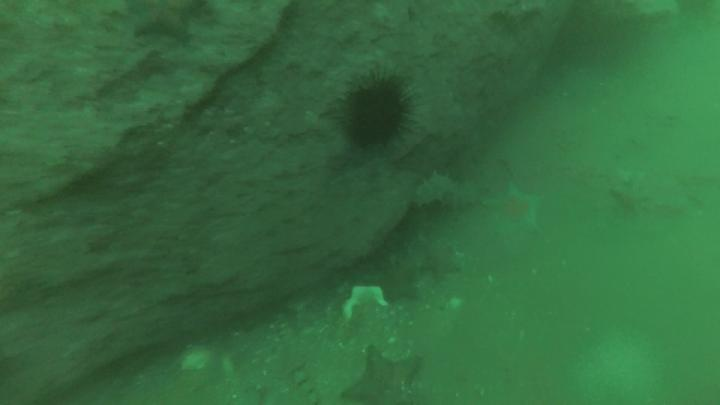echinus: (329, 71, 414, 155)
holothurian: (415, 172, 482, 214)
starfish: (336, 349, 427, 405), (133, 2, 212, 49), (483, 181, 545, 236), (374, 261, 422, 306), (420, 245, 465, 283)
